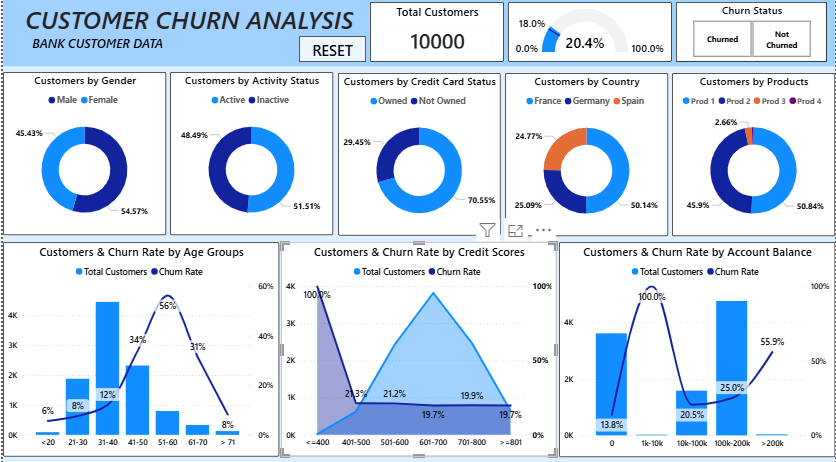

The page's visual inventory and layout, read from the dashboard file:
{"tool":"powerbi","page":{"name":"Churn Analysis","canvas":[1280,720],"ordinal":0},"visuals":[{"type":"textbox","box":[0,0,1280,101.5],"z":0},{"type":"cardVisual","title":"Total Customers","fields":{"Data":["Bank Customer Data.Total Customers"]},"box":[565,3.1,206.2,92.3],"z":1000},{"type":"donutChart","title":"Customers by Gender","fields":{"Category":["Bank Customer Data.Gender"],"Y":["Bank Customer Data.Total Customers"]},"box":[0,110.1,250.8,250.8],"z":2000},{"type":"donutChart","title":"Customers by Activity Status","fields":{"Y":["Bank Customer Data.Total Customers"],"Category":["Bank Customer Data.Activity Status"]},"box":[257.5,110.1,250.8,250.8],"z":3000},{"type":"donutChart","title":"Customers by Credit Card Status","fields":{"Y":["Bank Customer Data.Total Customers"],"Category":["Bank Customer Data.Credit Card Status"]},"box":[515,111.6,250,250],"z":4000},{"type":"donutChart","title":"Customers by Country","fields":{"Y":["Bank Customer Data.Total Customers"],"Category":["Bank Customer Data.Country"]},"box":[771.7,111.6,250.8,250.8],"z":5000},{"type":"donutChart","title":"Customers by Products","fields":{"Y":["Bank Customer Data.Total Customers"],"Category":["Bank Customer Data.Products"]},"box":[1029.2,111.6,250.8,250.8],"z":6000},{"type":"lineStackedColumnComboChart","title":"Customers & Churn Rate by Age Groups","fields":{"Category":["Age Groups.Age Groups"],"Y":["Bank Customer Data.Total Customers"],"Y2":["Bank Customer Data.Churn Rate"]},"box":[0,372.3,424.6,330],"z":7000},{"type":"areaChart","title":"Customers & Churn Rate by Credit Scores","fields":{"Category":["Credit Score Groups.Credit Scores"],"Y":["Bank Customer Data.Total Customers"],"Y2":["Bank Customer Data.Churn Rate"]},"box":[428,372.3,424,330],"z":8000},{"type":"lineStackedColumnComboChart","title":"Customers & Churn Rate by Account Balance","fields":{"Y":["Bank Customer Data.Total Customers"],"Y2":["Bank Customer Data.Churn Rate"],"Category":["Acct Balance Groups.Acct. Balance"]},"box":[855.4,372.3,424.6,330.8],"z":9000},{"type":"slicer","title":"Churn Status","fields":{"Values":["Bank Customer Data.Churn Status"]},"box":[1035.8,3.1,232.3,92.3],"z":10000},{"type":"gauge","fields":{"Y":["Bank Customer Data.Churn Rate"],"MaxValue":["Max(Bank Customer Data.Max Churn Rate)"],"MinValue":["Min(Bank Customer Data.Min Churn Rate)"],"TargetValue":["Max(Bank Customer Data.Target Churn Rate)"]},"box":[777.3,3.1,252.3,92.3],"z":11000},{"type":"actionButton","box":[455.4,55.4,103.1,40],"z":11001}]}

Visuals, with their boxes in screenshot pixels (x1, y1, x2, y2), scaled from the page's 1280x720 canvas onto the 836x462 screenshot:
textbox: 0,0,835,65
"Total Customers" cardVisual: 369,2,504,61
"Customers by Gender" donutChart: 0,71,164,232
"Customers by Activity Status" donutChart: 168,71,332,232
"Customers by Credit Card Status" donutChart: 336,72,500,232
"Customers by Country" donutChart: 504,72,668,233
"Customers by Products" donutChart: 672,72,835,233
"Customers & Churn Rate by Age Groups" lineStackedColumnComboChart: 0,239,277,451
"Customers & Churn Rate by Credit Scores" areaChart: 280,239,556,451
"Customers & Churn Rate by Account Balance" lineStackedColumnComboChart: 559,239,835,451
"Churn Status" slicer: 677,2,828,61
gauge - Bank Customer Data.Churn Rate x Max(Bank Customer Data.Max Churn Rate): 508,2,672,61
actionButton: 297,36,365,61
